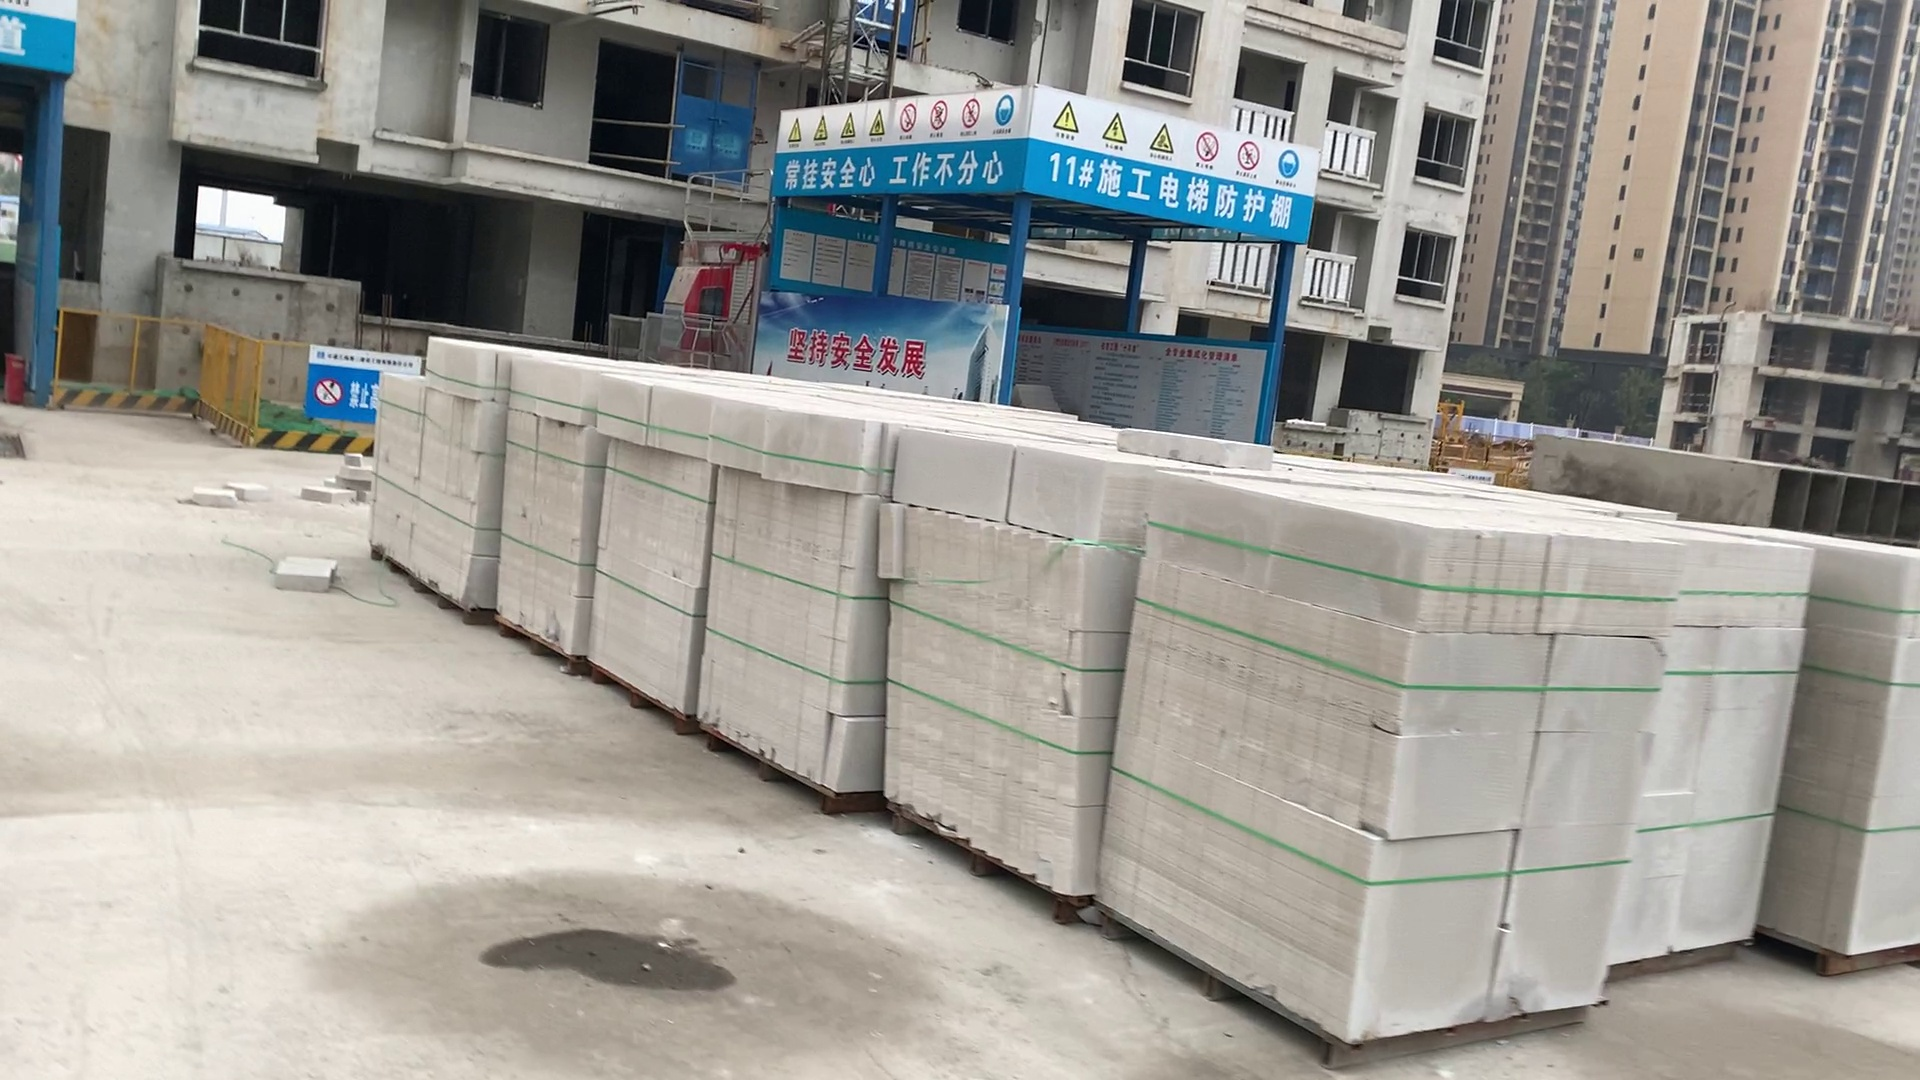brickwork: (1118, 476, 1625, 1026), (864, 436, 1116, 899), (1611, 533, 1778, 964), (696, 402, 866, 775), (1803, 539, 1915, 963), (576, 372, 703, 707), (368, 338, 497, 616), (497, 356, 593, 647)
